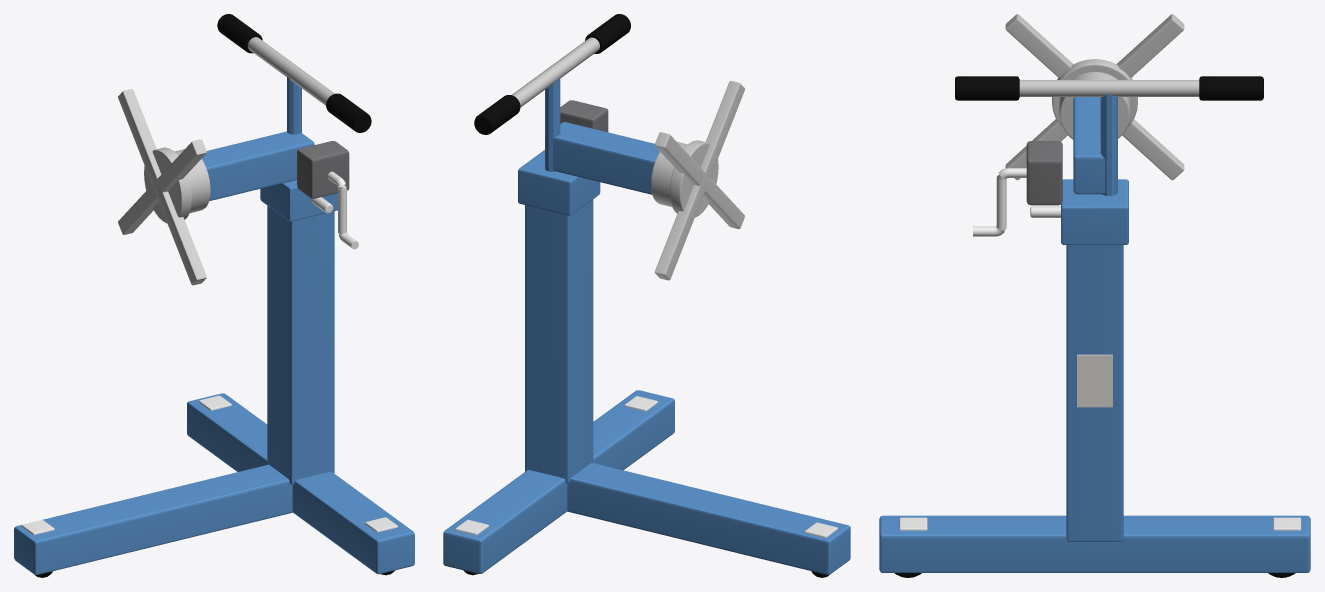
Rendered from industrial.workshop.engine_stand_folding.glb.
3 views of the same model, side by side, from view 1: azimuth 30°, elevation 25°; view 2: azimuth 150°, elevation 25°; view 3: azimuth 270°, elevation 25° (orthographic). The views are drawn at different scales.
Parts seen in each view (by area): view 1: main__paint_59c, main__galv_ccc, main__galv_777, main__rubber, main__chrome_eee; view 2: main__paint_59c, main__galv_ccc, main__rubber, main__galv_777, main__chrome_eee; view 3: main__paint_59c, main__galv_ccc, main__rubber, main__galv_777, main__chrome_eee, main__paint_eee.
Part boxes in pixels (x1,y1,x2,y2): main__paint_59c: (14, 76, 414, 574); main__galv_ccc: (118, 37, 334, 285); main__galv_777: (297, 141, 349, 198); main__rubber: (35, 14, 394, 577); main__chrome_eee: (21, 171, 397, 534); main__paint_59c: (443, 77, 850, 574); main__galv_ccc: (512, 37, 744, 280); main__rubber: (463, 14, 829, 577); main__galv_777: (560, 100, 608, 132); main__chrome_eee: (455, 396, 837, 537); main__paint_59c: (879, 94, 1310, 572); main__galv_ccc: (1005, 14, 1199, 180); main__rubber: (894, 76, 1295, 577); main__galv_777: (1026, 141, 1062, 205); main__chrome_eee: (899, 168, 1301, 530); main__paint_eee: (1077, 354, 1112, 407).
Size of the model in its own units: 0.5475 by 0.767 by 0.6.
